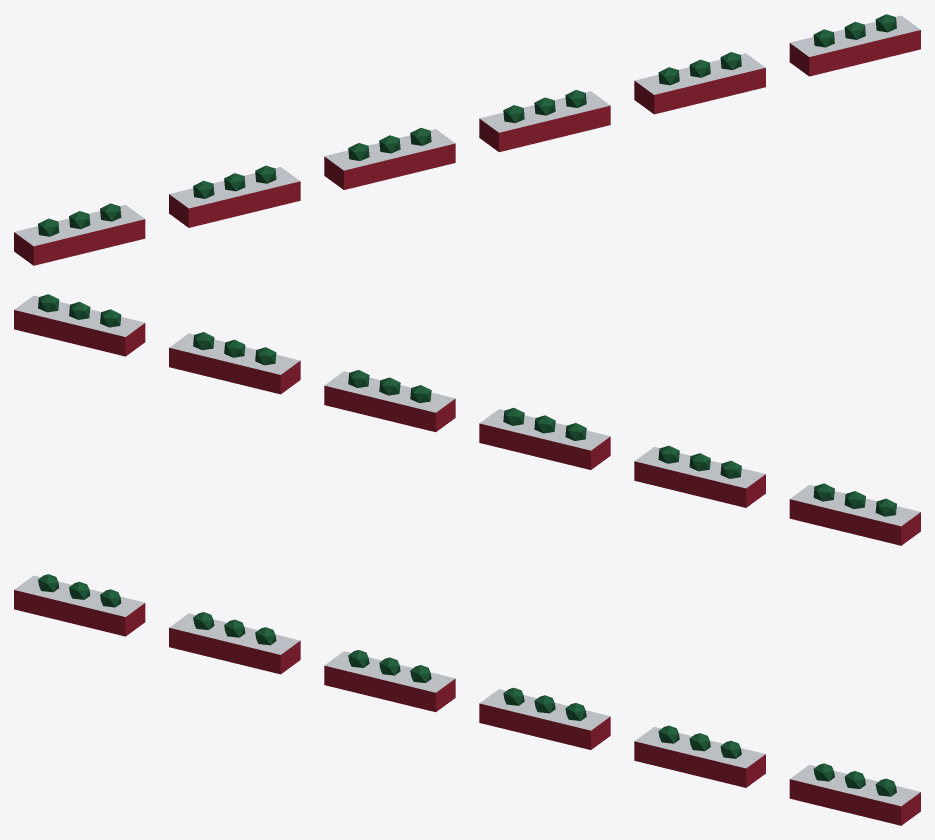
Rendered from Apartment_Green_Balconies.glb.
3 views of the same model, one above another, from view 1: azimuth 30°, elevation 25°; view 2: azimuth 150°, elevation 25°; view 3: azimuth 330°, elevation 25° (orthographic).
Visible parts, largest first — view 1: Apartment_Green_Balconies; view 2: Apartment_Green_Balconies; view 3: Apartment_Green_Balconies.
Part boxes in pixels (x1,y1,x2,y2): Apartment_Green_Balconies: (14, 14, 920, 265); Apartment_Green_Balconies: (14, 294, 920, 545); Apartment_Green_Balconies: (14, 574, 920, 825).
Bounding box in the file's own units: 28.6 × 1.05 × 1.1.
